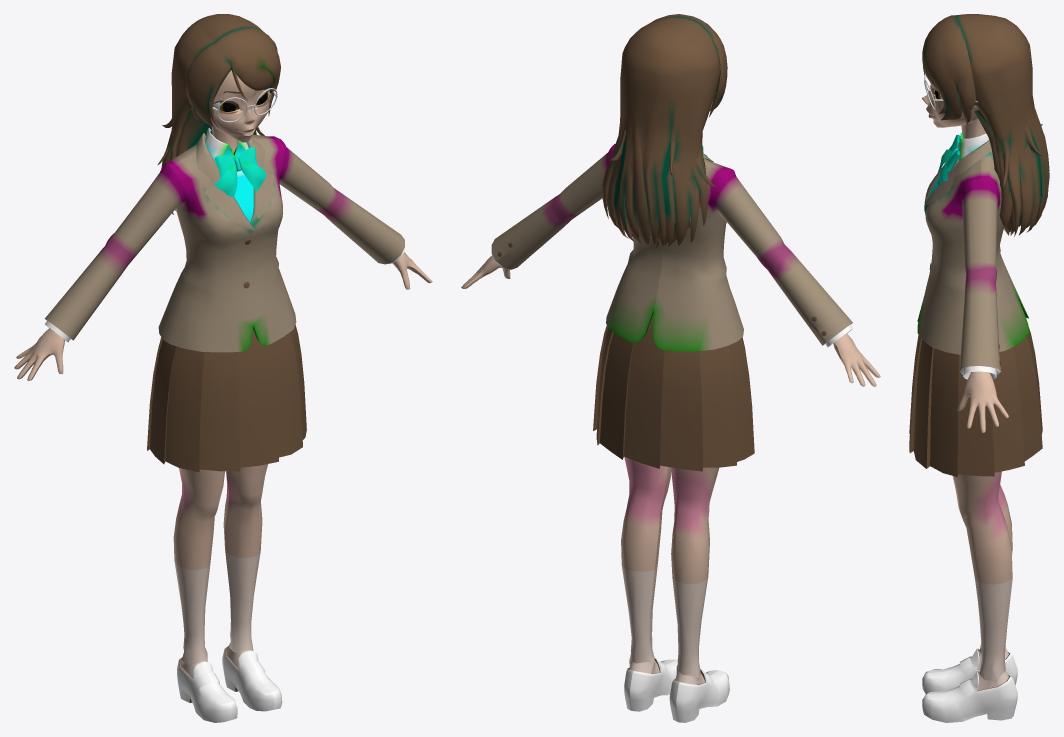
The model's file is topper_girl_fbx.fbx.
3 renders of one model, left to right at view 1: azimuth 30°, elevation 25°; view 2: azimuth 150°, elevation 25°; view 3: azimuth 270°, elevation 25°, orthographic.
Parts seen in each view (by area): view 1: polySurface29, polySurface17, hair, polySurface81; view 2: polySurface29, hair, polySurface17; view 3: polySurface29, hair, polySurface17, polySurface81.
Part boxes in pixels (x1,y1,x2,y2): polySurface29: [14, 128, 432, 722]; polySurface17: [147, 324, 306, 472]; hair: [157, 14, 280, 214]; polySurface81: [210, 70, 269, 153]; polySurface29: [461, 144, 880, 722]; hair: [602, 14, 727, 247]; polySurface17: [593, 314, 754, 471]; polySurface29: [917, 132, 1029, 722]; hair: [922, 14, 1049, 236]; polySurface17: [909, 327, 1042, 476]; polySurface81: [922, 83, 986, 138].
Size of the model in its own units: 7.13 by 11.22 by 2.08.
